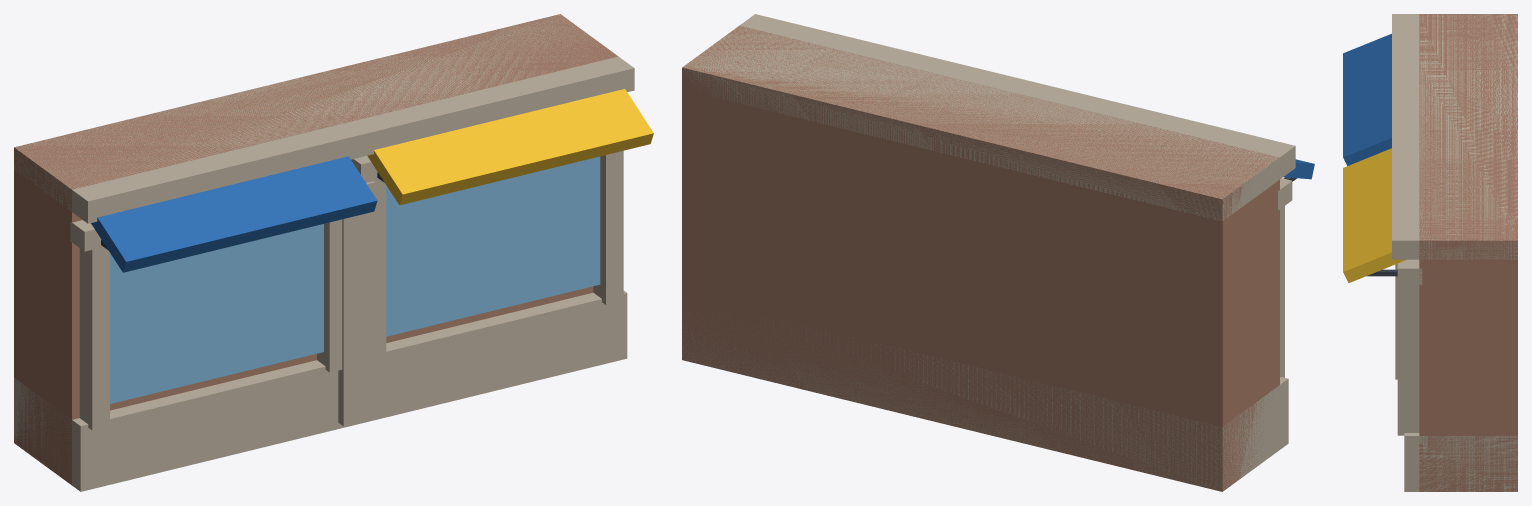
File: cittaMattoneBaseB.glb
3 renders of one model, left to right at view 1: azimuth 30°, elevation 25°; view 2: azimuth 150°, elevation 25°; view 3: azimuth 270°, elevation 25°, orthographic. The views are drawn at different scales.
Visible parts, largest first — view 1: cittaMattoneBaseB_stone, cittaMattoneBaseB_glass, cittaMattoneBaseB_cittaMattone, cittaMattoneBaseB_blue, cittaMattoneBaseB_yellow; view 2: cittaMattoneBaseB_cittaMattone, cittaMattoneBaseB_stone; view 3: cittaMattoneBaseB_cittaMattone, cittaMattoneBaseB_stone, cittaMattoneBaseB_yellow, cittaMattoneBaseB_blue.
Boxes of the visible parts, x1,y1,x2,y2 form: cittaMattoneBaseB_stone: [14, 14, 634, 491]; cittaMattoneBaseB_glass: [110, 156, 600, 403]; cittaMattoneBaseB_cittaMattone: [14, 14, 617, 485]; cittaMattoneBaseB_blue: [91, 156, 377, 272]; cittaMattoneBaseB_yellow: [367, 89, 653, 205]; cittaMattoneBaseB_cittaMattone: [682, 25, 1279, 491]; cittaMattoneBaseB_stone: [682, 14, 1295, 491]; cittaMattoneBaseB_cittaMattone: [1419, 14, 1517, 491]; cittaMattoneBaseB_stone: [1392, 14, 1517, 491]; cittaMattoneBaseB_yellow: [1343, 148, 1406, 282]; cittaMattoneBaseB_blue: [1343, 33, 1391, 165].
Bounding box in the file's own units: 8.7 × 4.5 × 2.84.
